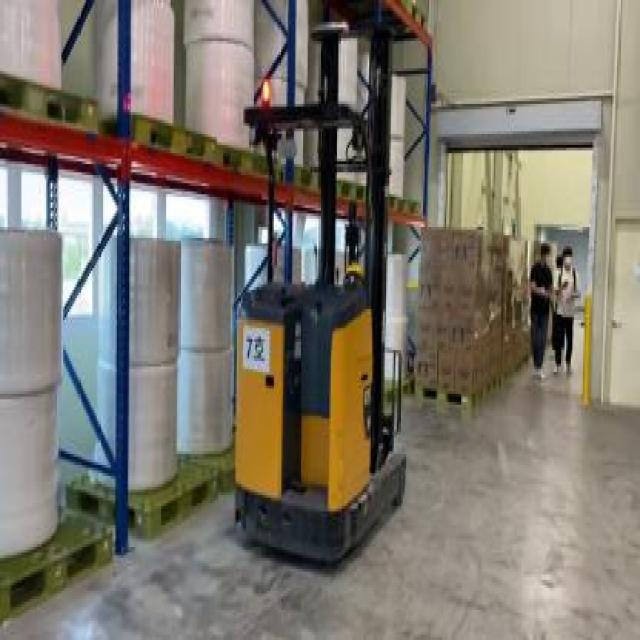box: (238, 0, 418, 585), (418, 222, 558, 402)
person: (523, 235, 555, 386), (554, 249, 578, 375)
white_roll: (94, 232, 241, 520), (2, 221, 112, 580), (306, 25, 412, 205), (86, 3, 182, 153), (183, 3, 259, 175), (1, 2, 74, 128), (257, 2, 305, 188)
